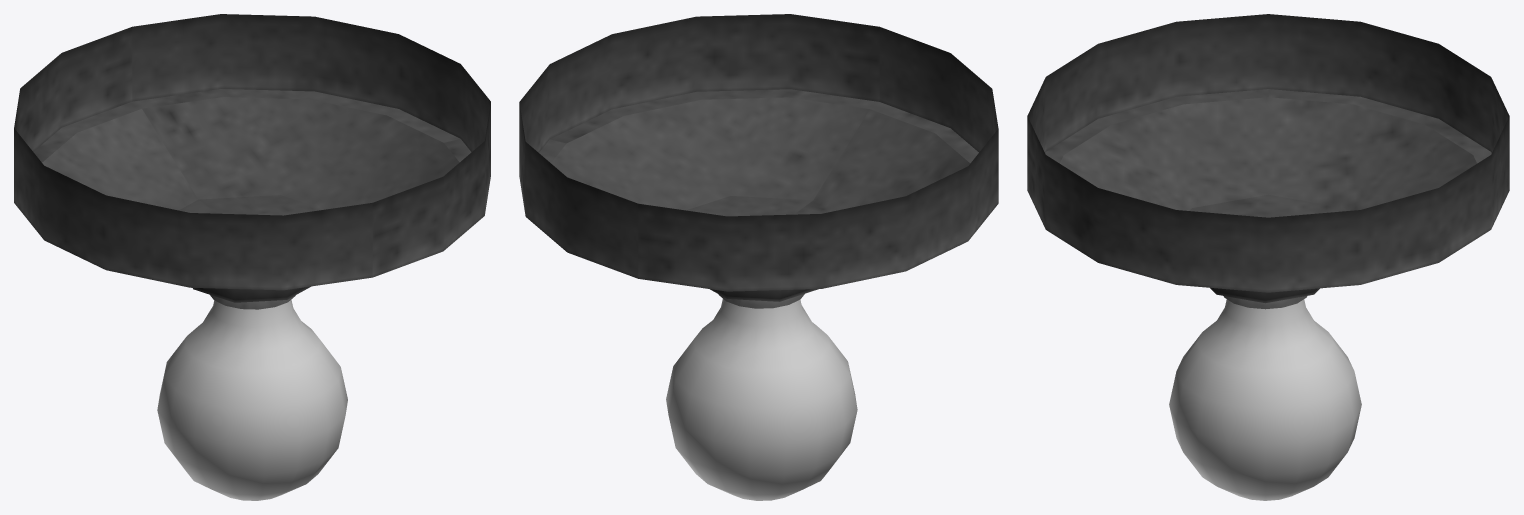
File: ceiling_lamp_mp_1_on.obj
3 views of the same model, side by side, from view 1: azimuth 30°, elevation 25°; view 2: azimuth 150°, elevation 25°; view 3: azimuth 270°, elevation 25° (orthographic).
Visible parts, largest first — view 1: ceiling_lamp_mp_1_on; view 2: ceiling_lamp_mp_1_on; view 3: ceiling_lamp_mp_1_on.
Boxes of the visible parts, bbox=[...] form: ceiling_lamp_mp_1_on: bbox=[14, 14, 490, 500]; ceiling_lamp_mp_1_on: bbox=[519, 14, 998, 500]; ceiling_lamp_mp_1_on: bbox=[1027, 14, 1509, 500].
Bounding box in the file's own units: 0.215 × 0.1855 × 0.215.
